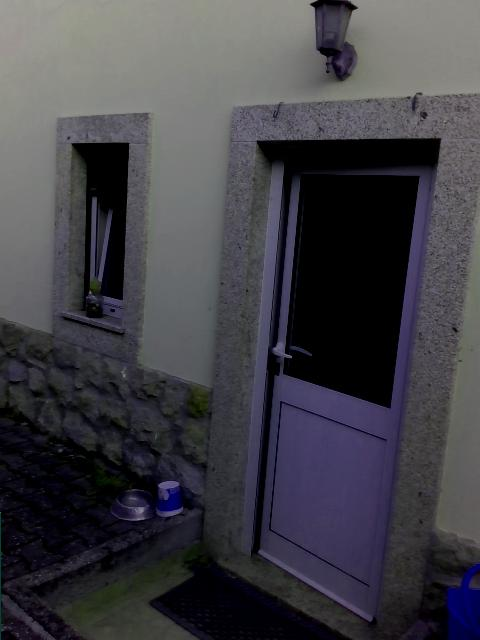closed_door: (244, 148, 434, 625)
